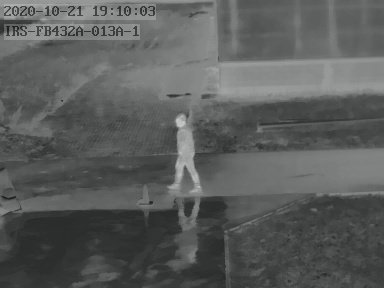person: (167, 113, 201, 194)
